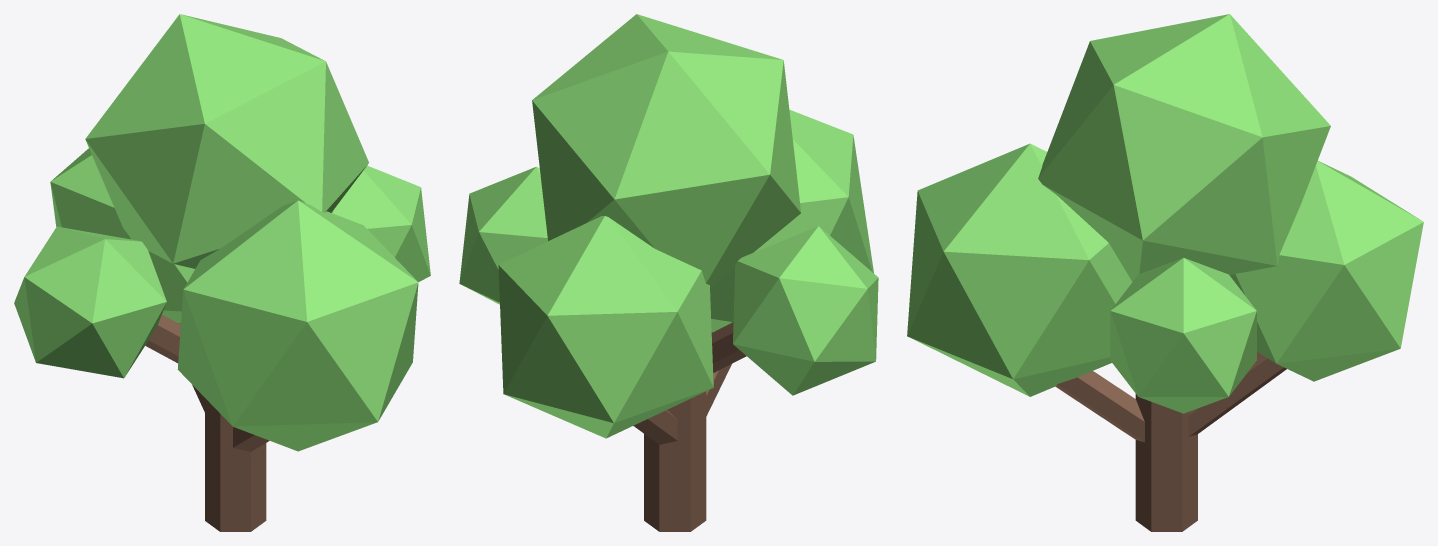
The model's file is Tree1.fbx.
3 views of the same model, side by side, from view 1: azimuth 30°, elevation 25°; view 2: azimuth 150°, elevation 25°; view 3: azimuth 270°, elevation 25° (orthographic).
Parts seen in each view (by area): view 1: Tree1; view 2: Tree1; view 3: Tree1.
Part boxes in pixels (x1=…): Tree1: x1=14, y1=14, x2=430, y2=531; Tree1: x1=459, y1=14, x2=878, y2=531; Tree1: x1=907, y1=14, x2=1423, y2=531.
Bounding box in the file's own units: 161 × 191 × 181.
